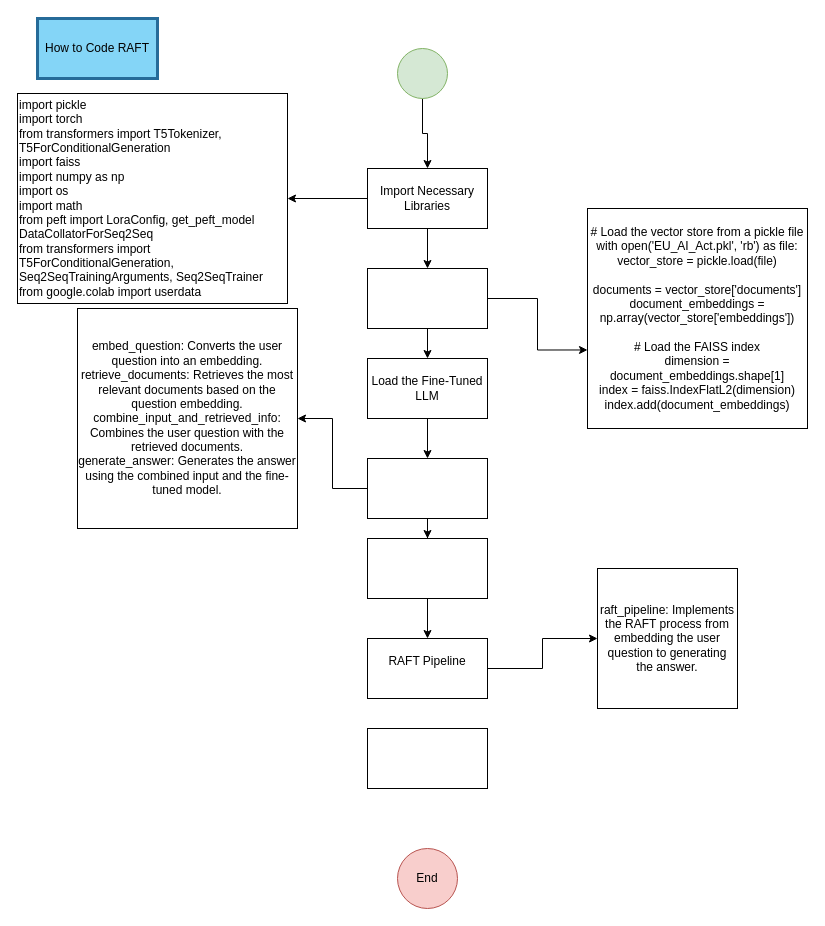
Image size: 825x926. Some labels were removed from this diagram. Each missing label, with the centre of its shape:
"Define Helper Functions" goes at point (427, 488).
"Define the RAFT Process" goes at point (427, 568).
"Load Vector Store , Data Collator and Model" goes at point (427, 298).
"Start" goes at point (422, 73).
